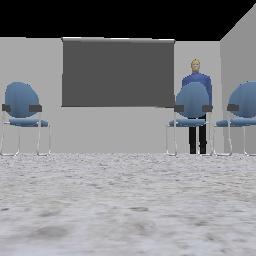persoana: (182, 60, 210, 104), (200, 125, 205, 153), (190, 127, 195, 153)
scaun: (1, 82, 50, 155), (166, 82, 212, 155), (213, 81, 255, 155)
videoproiector: (62, 37, 173, 107)
